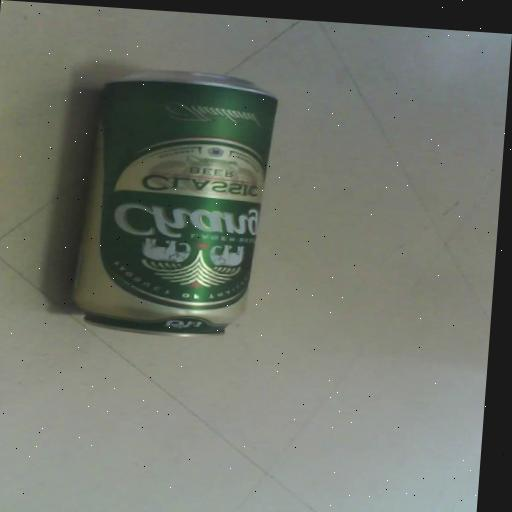canned: (51, 54, 302, 361)
